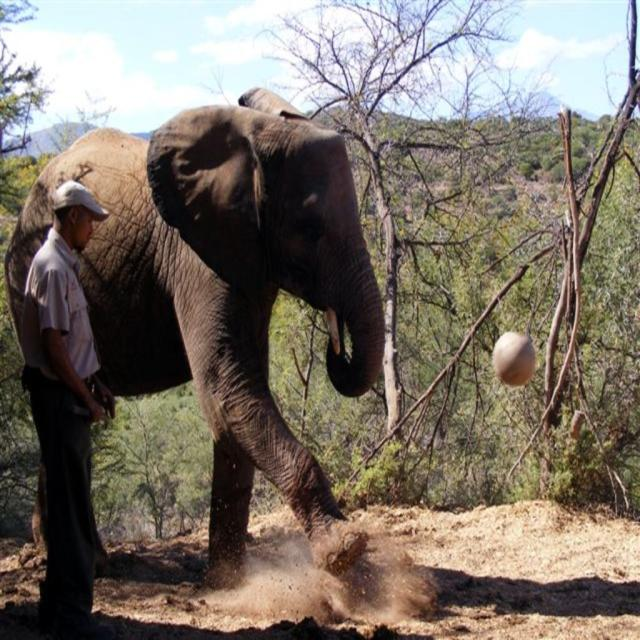Elephant: (3, 85, 386, 590)
person: (19, 179, 117, 639)
